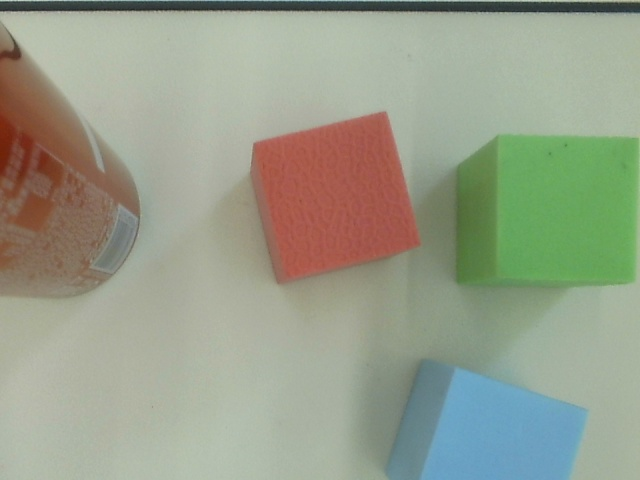bluecube: (381, 350, 595, 480)
cola: (1, 6, 152, 305)
greencube: (450, 129, 640, 293)
redcube: (242, 105, 432, 292)
